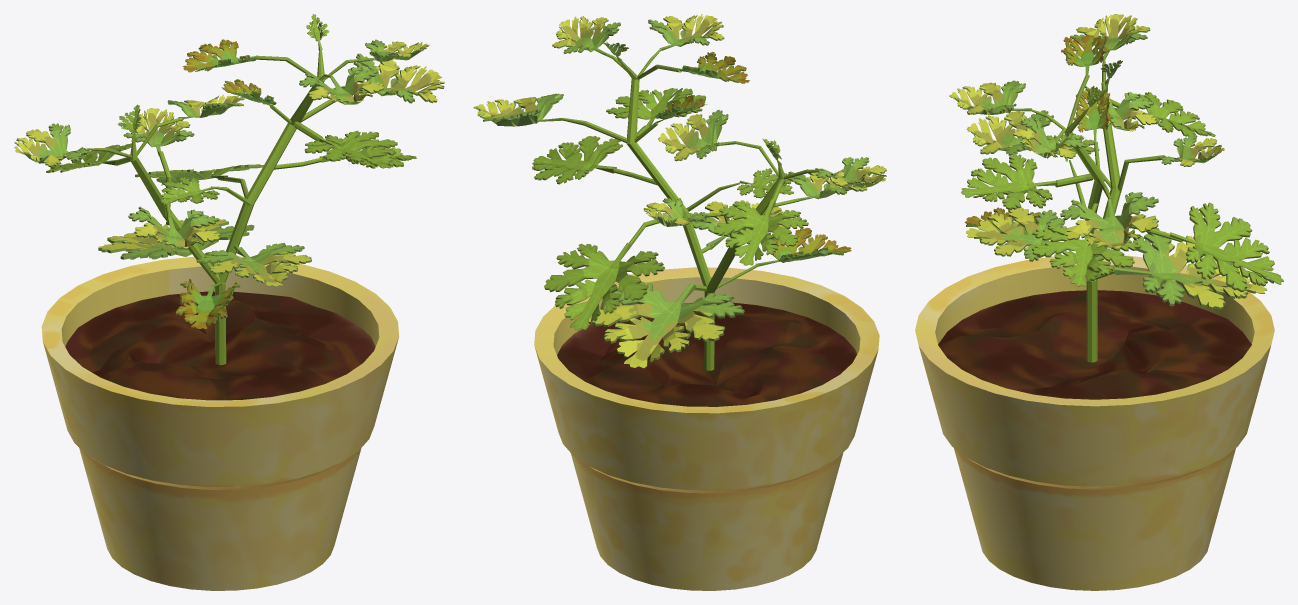
File: Pelargonium_Bad_End.glb
3 renders of one model, left to right at view 1: azimuth 30°, elevation 25°; view 2: azimuth 150°, elevation 25°; view 3: azimuth 270°, elevation 25°, orthographic. The views are drawn at different scales.
Parts seen in each view (by area): view 1: Pot, Pot.030; view 2: Pot, Pot.030; view 3: Pot, Pot.030.
Part boxes in pixels (<box>): Pot: <box>41,256,399,590</box>; Pot.030: <box>14,14,444,365</box>; Pot: <box>534,267,879,590</box>; Pot.030: <box>473,14,886,370</box>; Pot: <box>915,255,1274,590</box>; Pot.030: <box>949,14,1283,362</box>.
Bounding box in the file's own units: 2.8 × 3.15 × 2.1.
4 materials, 4 textured.
